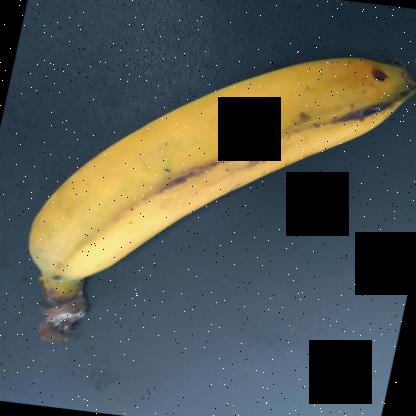freshripe: (46, 22, 415, 282)
